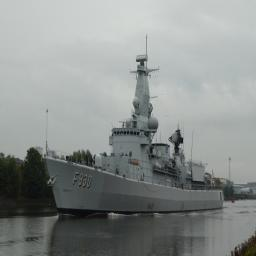Fragata: (40, 54, 227, 222)
